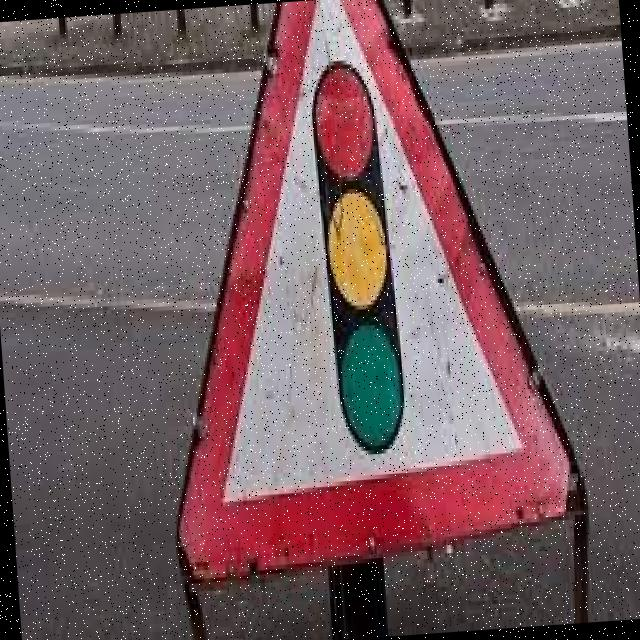speed_limit_20: (140, 0, 575, 579)
